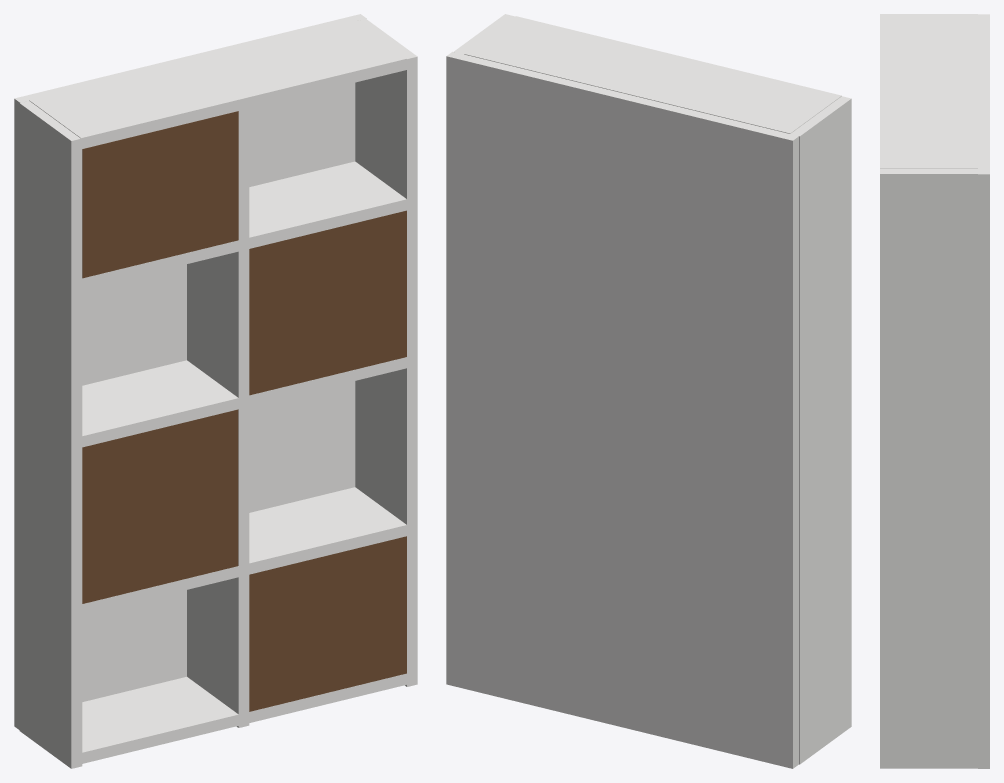
File: Cupboard_2.fbx
3 views of the same model, side by side, from view 1: azimuth 30°, elevation 25°; view 2: azimuth 150°, elevation 25°; view 3: azimuth 270°, elevation 25° (orthographic). The views are drawn at different scales.
Visible parts, largest first — view 1: Cupboard_2; view 2: Cupboard_2; view 3: Cupboard_2.
Boxes of the visible parts, box(x1,y1,x2,y2) form: Cupboard_2: box(14, 14, 417, 768); Cupboard_2: box(446, 14, 851, 768); Cupboard_2: box(880, 14, 989, 768).
Size of the model in its own units: 190 by 54.95 by 329.
